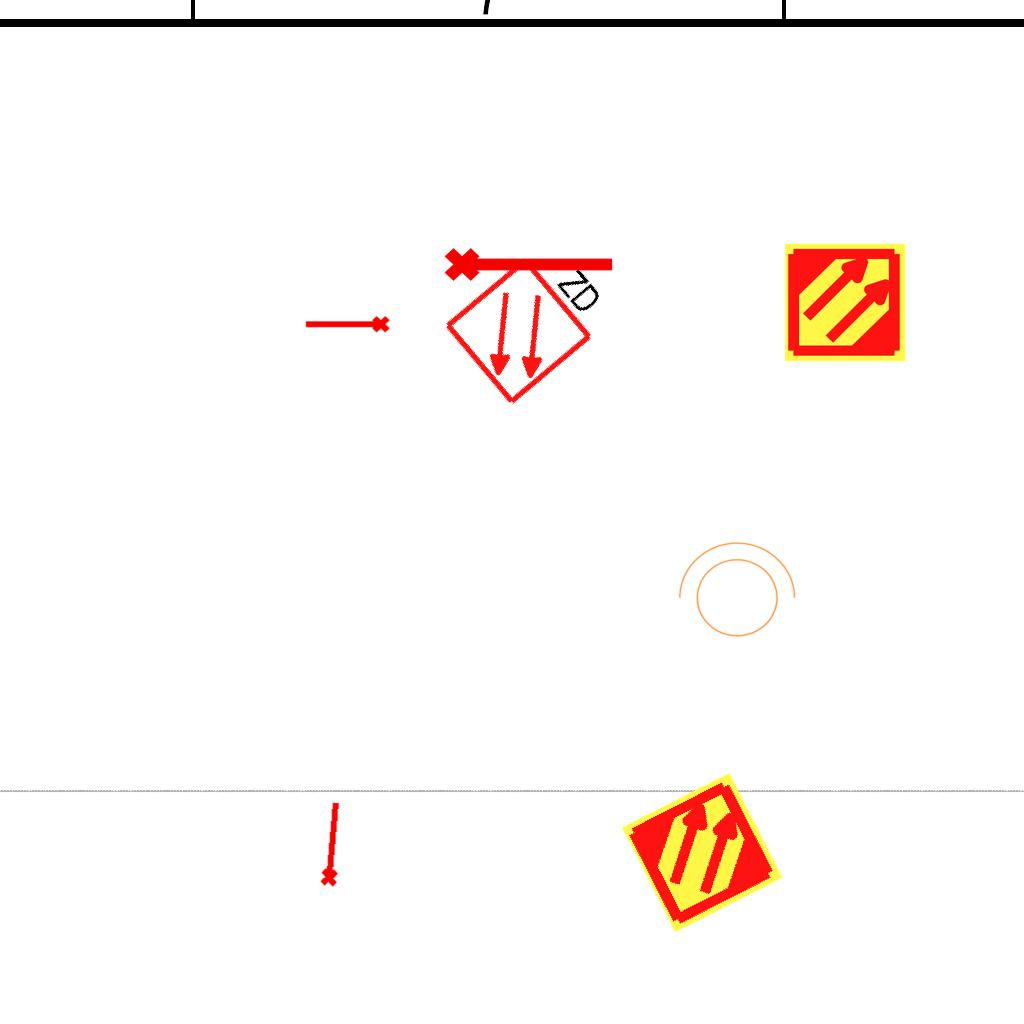ASR_Ansaugoeffnung: (442, 239, 618, 285), (315, 798, 347, 889), (303, 314, 391, 337)
ASR_Ansaugrauchmelder: (618, 768, 787, 937), (783, 240, 908, 365)
Scheinwerfer_fuer_Alarmbeleuchtung: (668, 537, 800, 649)
ZD_Melder_in_Zwischendecke_mit_Revisionsoeffnung_mind_40_x_40_cm: (438, 225, 626, 410)
